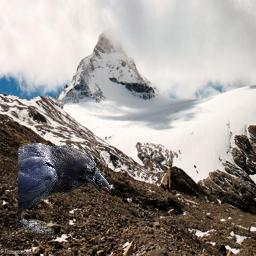Crow: (18, 142, 111, 234)
